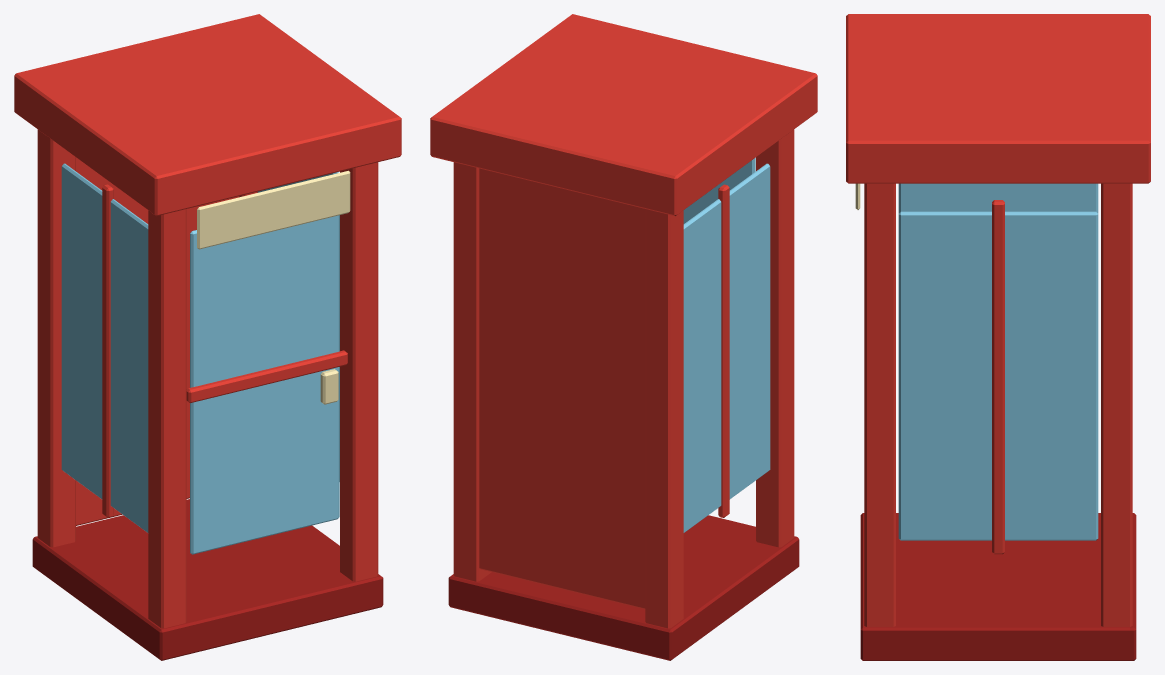
Rendered from FTF_Building_PhoneBooth_Red_2_2m.glb.
3 views of the same model, side by side, from view 1: azimuth 30°, elevation 25°; view 2: azimuth 150°, elevation 25°; view 3: azimuth 270°, elevation 25° (orthographic). The views are drawn at different scales.
Parts seen in each view (by area): view 1: FTF_Building_PhoneBooth_Red_2_2m_Mesh; view 2: FTF_Building_PhoneBooth_Red_2_2m_Mesh; view 3: FTF_Building_PhoneBooth_Red_2_2m_Mesh.
Part boxes in pixels (x1,y1,x2,y2): FTF_Building_PhoneBooth_Red_2_2m_Mesh: (14, 14, 401, 660); FTF_Building_PhoneBooth_Red_2_2m_Mesh: (430, 14, 817, 660); FTF_Building_PhoneBooth_Red_2_2m_Mesh: (846, 14, 1150, 660).
Bounding box in the file's own units: 1.16 × 2.21 × 1.16.
